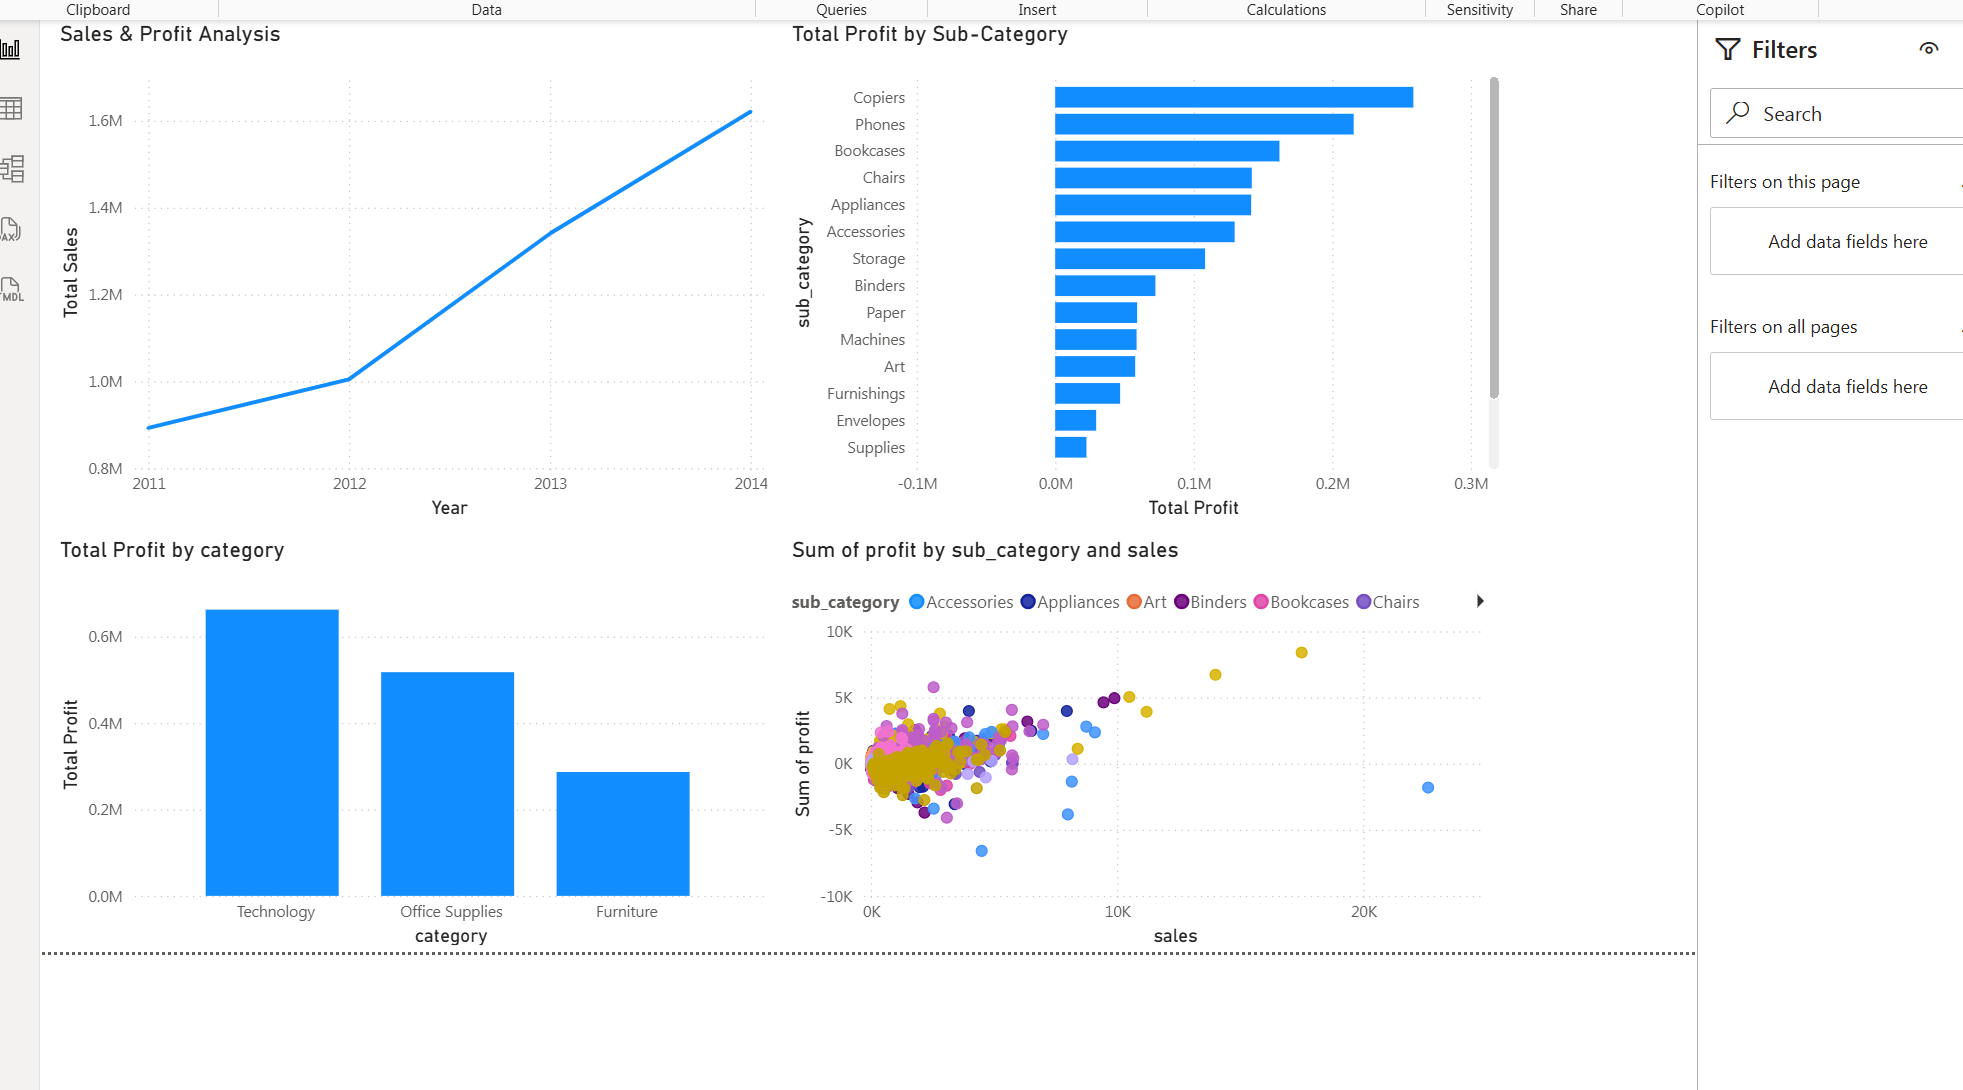

The dashboard page shown, as its layout file describes it:
{"tool":"powerbi","page":{"name":"Sales & Profit Analysis","canvas":[1280,720],"ordinal":1},"visuals":[{"type":"lineChart","title":"Sales & Profit Analysis","fields":{"Category":["SuperStoreOrders.order_date.Variation.Date Hierarchy.Year","SuperStoreOrders.order_date.Variation.Date Hierarchy.Quarter","SuperStoreOrders.order_date.Variation.Date Hierarchy.Month","SuperStoreOrders.order_date.Variation.Date Hierarchy.Day"],"Y":["SuperStoreOrders.Total Sales"]},"box":[10.1,0,556.2,389.2],"z":0},{"type":"clusteredColumnChart","fields":{"Category":["SuperStoreOrders.category"],"Y":["SuperStoreOrders.Total Profit"]},"box":[10,399,556,321],"z":1000},{"type":"clusteredBarChart","title":"Total Profit by Sub-Category","fields":{"Category":["SuperStoreOrders.sub_category"],"Y":["SuperStoreOrders.Total Profit"]},"box":[576,0,556,389],"z":1001},{"type":"scatterChart","fields":{"X":["SuperStoreOrders.sales"],"Series":["SuperStoreOrders.sub_category"],"Y":["Sum(SuperStoreOrders.profit)"]},"box":[576,399,556,321],"z":1002}]}

Visuals, with their boxes on the page's 1280x720 design canvas (x1, y1, x2, y2). These are canvas units, not pixel positions in the 1963x1090 screenshot, which may show the page scaled, cropped or inside an application window:
"Sales & Profit Analysis" lineChart: region(10, 0, 566, 389)
clusteredColumnChart - SuperStoreOrders.category x SuperStoreOrders.Total Profit: region(10, 399, 566, 720)
"Total Profit by Sub-Category" clusteredBarChart: region(576, 0, 1132, 389)
scatterChart - SuperStoreOrders.sales x SuperStoreOrders.sub_category: region(576, 399, 1132, 720)
